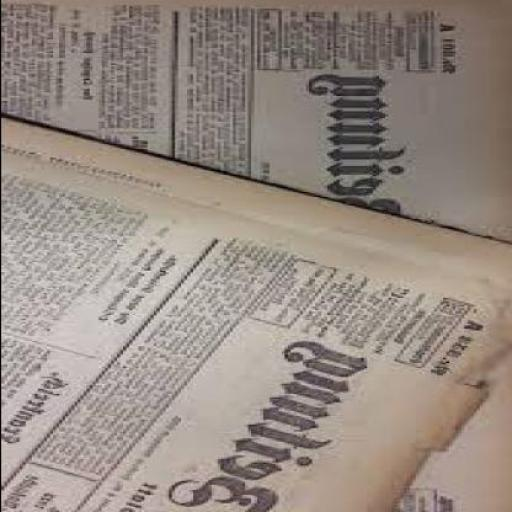paper: (2, 1, 511, 511), (1, 115, 510, 512)
